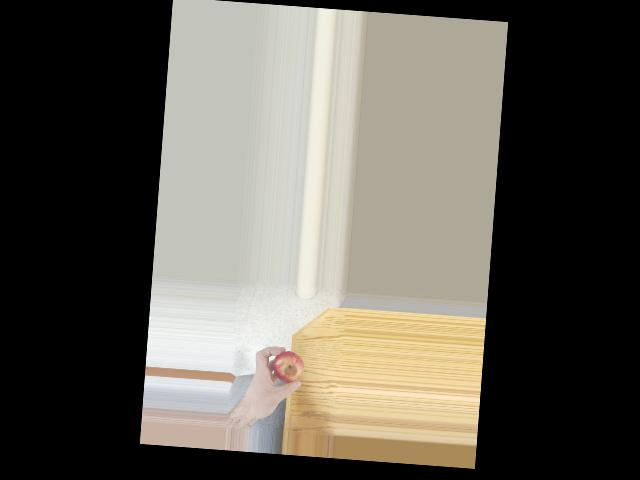apple: (272, 349, 305, 389)
